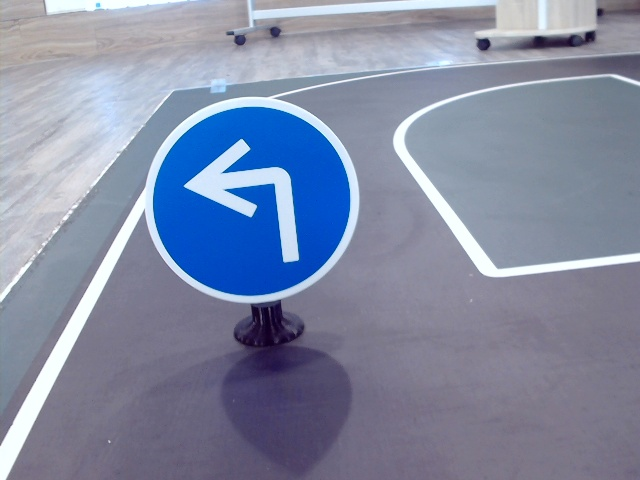turn_left: (189, 134, 304, 270)
